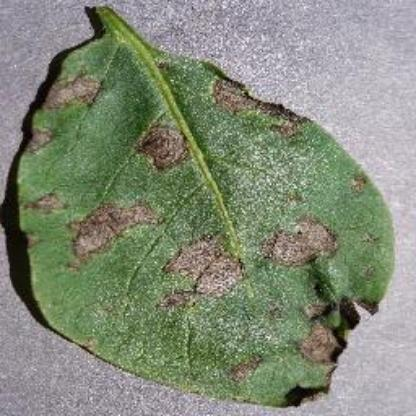Early-Blight: (6, 0, 410, 406)
